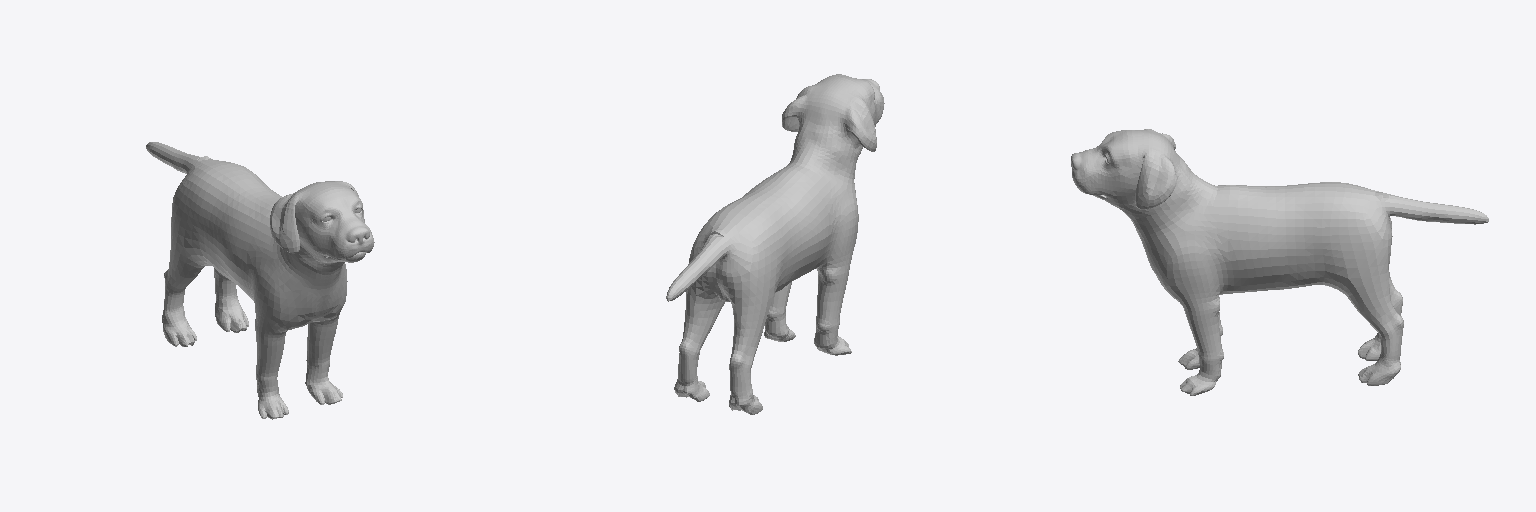
Rendered from dog.obj.
The picture shows the model from 3 angles: view 1: azimuth 30°, elevation 25°; view 2: azimuth 150°, elevation 25°; view 3: azimuth 270°, elevation 25°; orthographic projection.
Parts seen in each view (by area): view 1: dog_12228_Dog_v1_L2; view 2: dog_12228_Dog_v1_L2; view 3: dog_12228_Dog_v1_L2.
Boxes of the visible parts, <box> form: dog_12228_Dog_v1_L2: <box>146,142,374,419</box>; dog_12228_Dog_v1_L2: <box>666,74,884,414</box>; dog_12228_Dog_v1_L2: <box>1071,129,1488,395</box>.
Size of the model in its own units: 13.33 by 34.94 by 54.21.